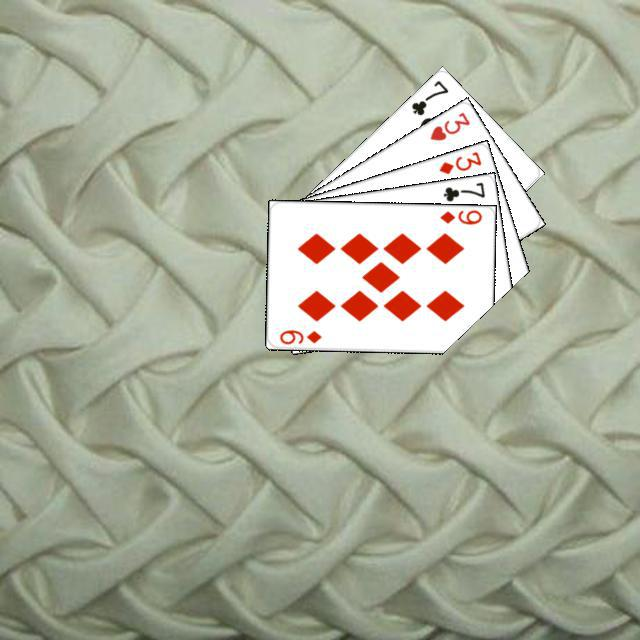3d: (434, 146, 483, 176)
3h: (425, 107, 472, 143)
7c: (406, 75, 450, 117), (438, 177, 487, 203)
9d: (435, 206, 483, 226), (275, 325, 323, 345)
